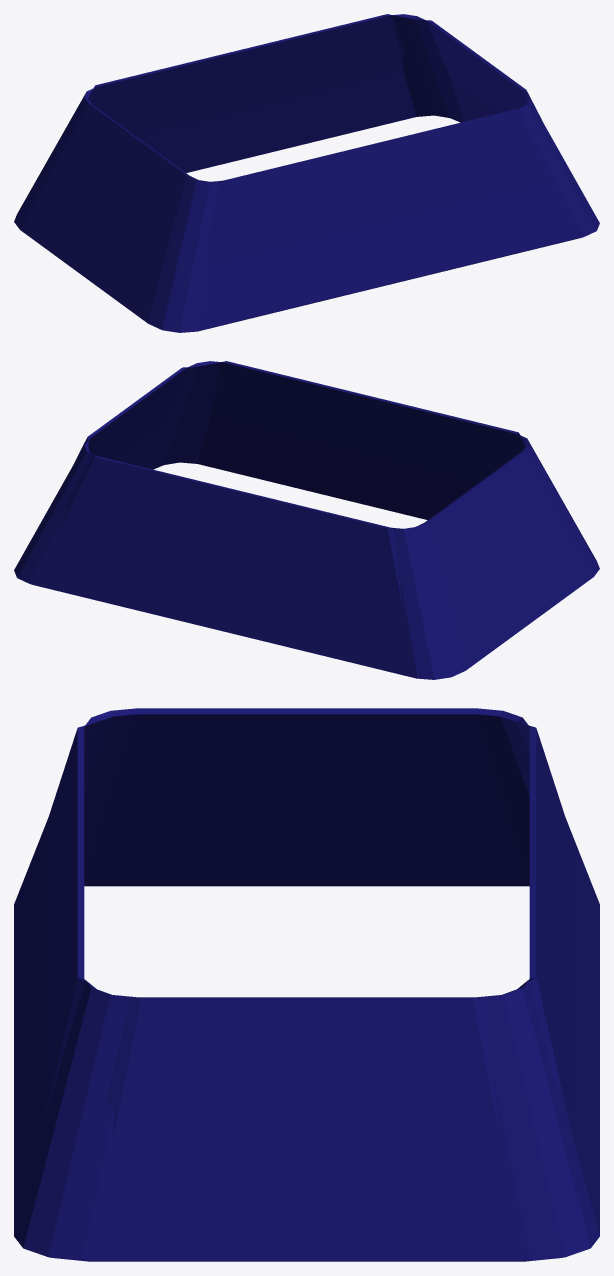
The model's file is stadiumRoof.fbx.
3 views of the same model, one above another, from view 1: azimuth 30°, elevation 25°; view 2: azimuth 150°, elevation 25°; view 3: azimuth 270°, elevation 25° (orthographic). The views are drawn at different scales.
Parts seen in each view (by area): view 1: Plane.001; view 2: Plane.001; view 3: Plane.001.
Part boxes in pixels (bbox=[...]): Plane.001: bbox=[14, 14, 599, 332]; Plane.001: bbox=[14, 361, 599, 679]; Plane.001: bbox=[14, 708, 599, 1261].
Size of the model in its own units: 588 by 160 by 383.
